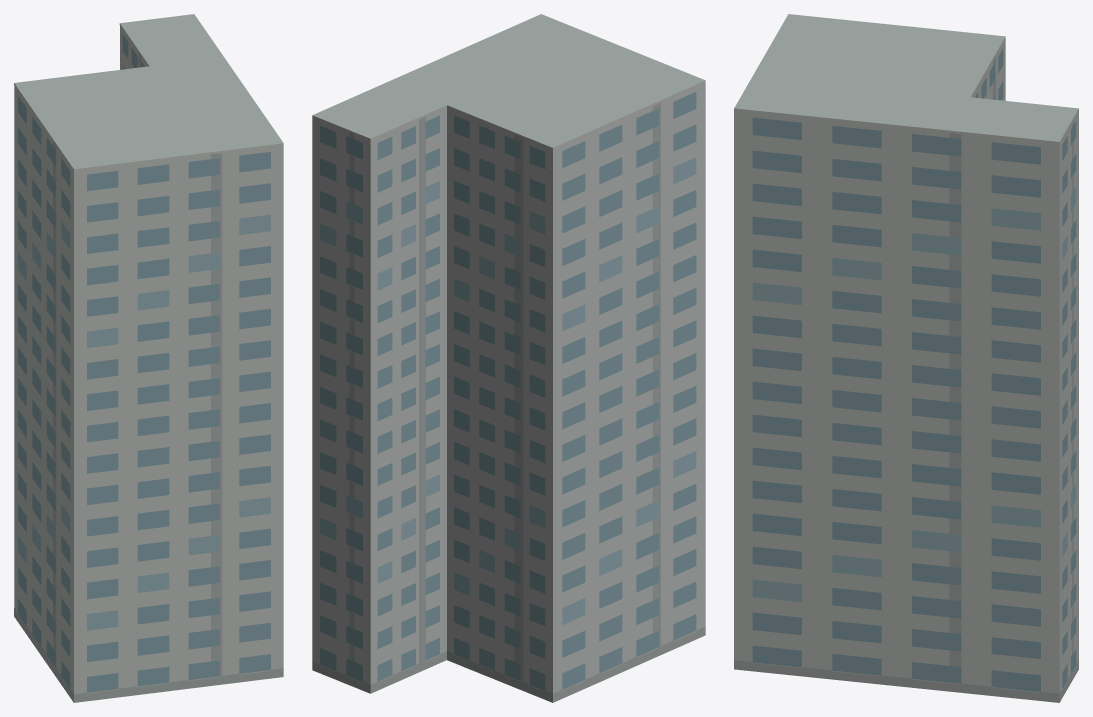
The model's file is residential-47b6e1b3-35f5-4957-88c4-928c54f13af9.glb.
3 renders of one model, left to right at view 1: azimuth 30°, elevation 25°; view 2: azimuth 150°, elevation 25°; view 3: azimuth 270°, elevation 25°, orthographic. The views are drawn at different scales.
Visible parts, largest first — view 1: residential-47b6e1b3-35f5-4957-88c4-928c54f13af9.tmp; view 2: residential-47b6e1b3-35f5-4957-88c4-928c54f13af9.tmp; view 3: residential-47b6e1b3-35f5-4957-88c4-928c54f13af9.tmp.
Boxes of the visible parts, <box> form: residential-47b6e1b3-35f5-4957-88c4-928c54f13af9.tmp: <box>14,14,283,702</box>; residential-47b6e1b3-35f5-4957-88c4-928c54f13af9.tmp: <box>312,14,705,702</box>; residential-47b6e1b3-35f5-4957-88c4-928c54f13af9.tmp: <box>734,14,1078,702</box>.
Bounding box in the file's own units: 29.34 × 60 × 33.43.
